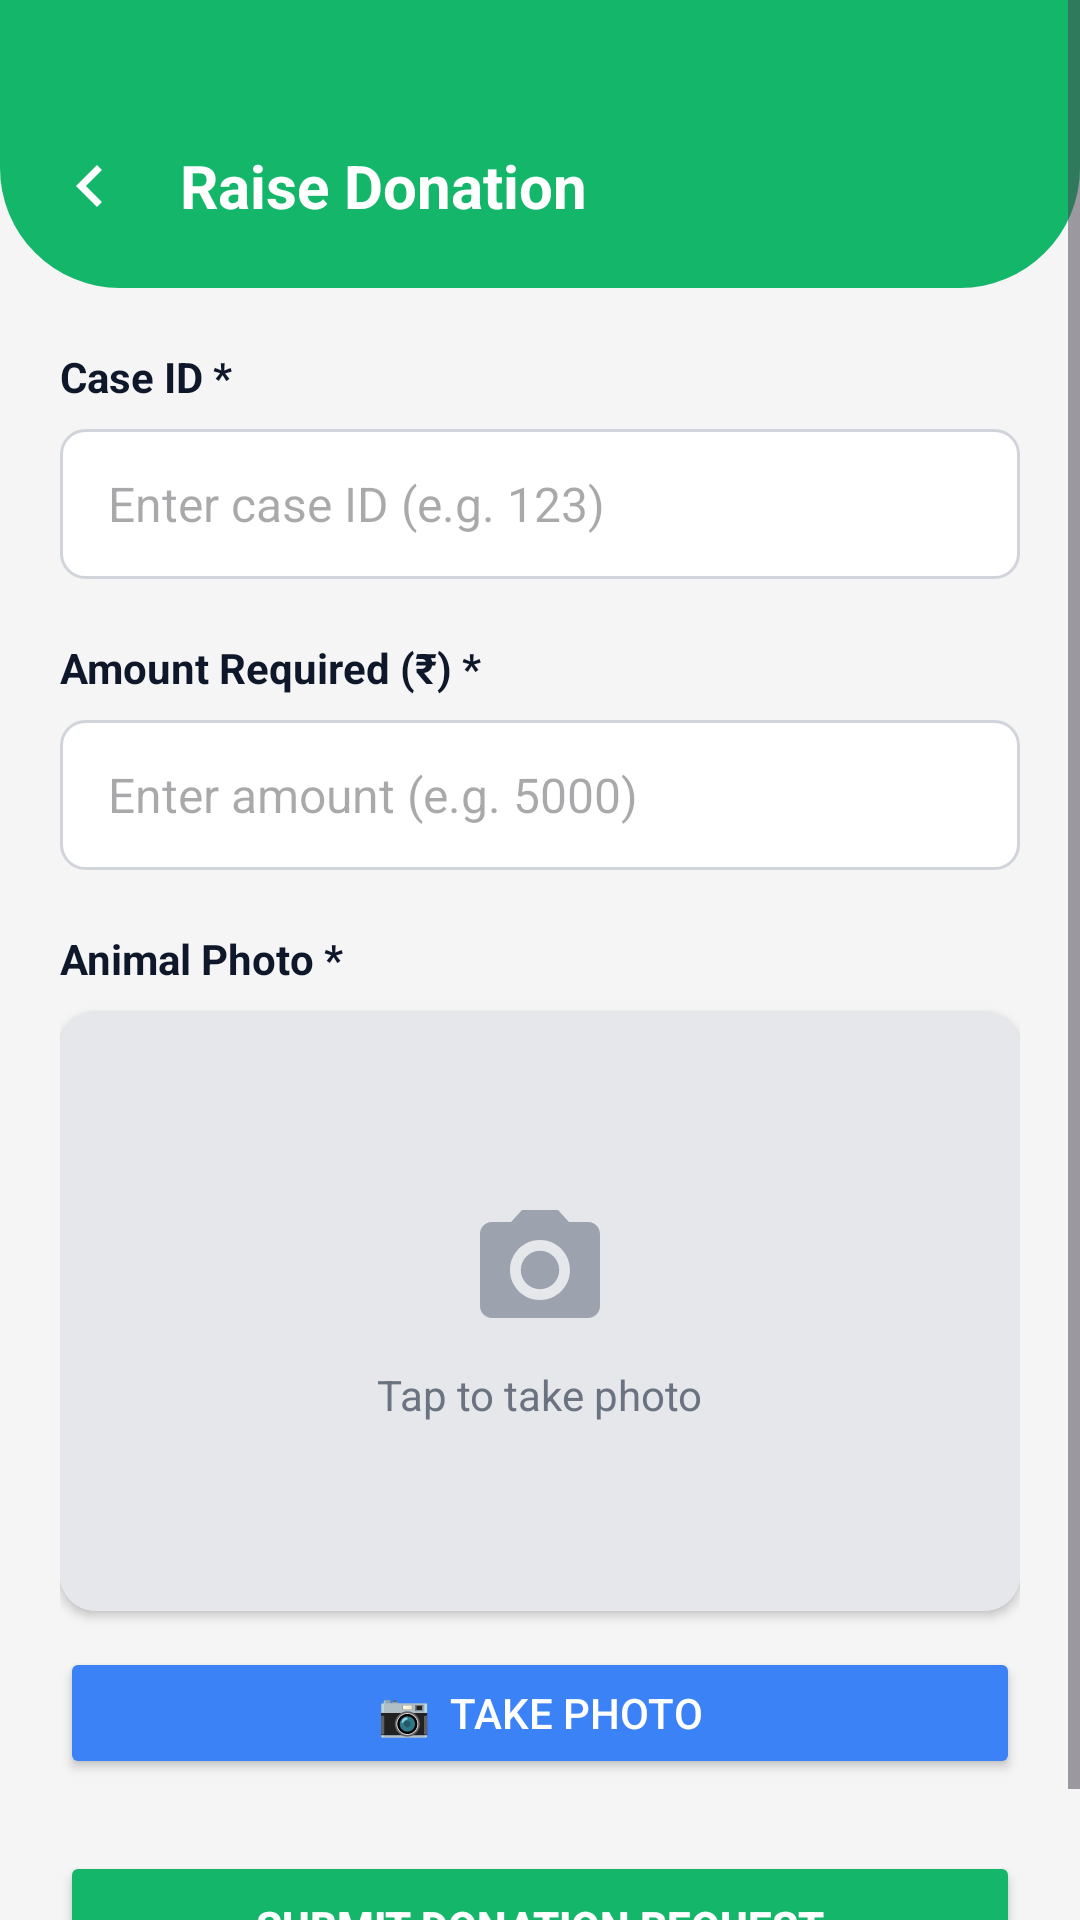

Screen size 1080px x 1920px. Icon name, then its center in pixels as (x,y):
back: (89,186)
camera: (540,1264)
